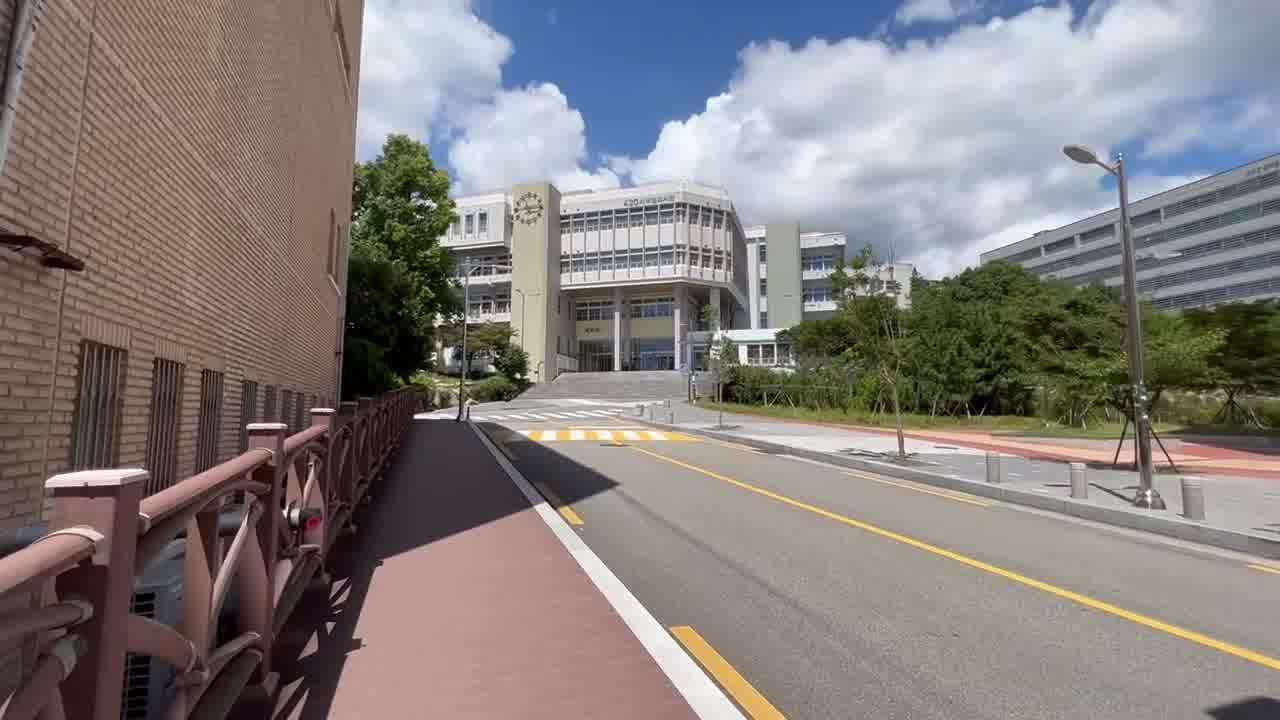building: (469, 170, 760, 371)
